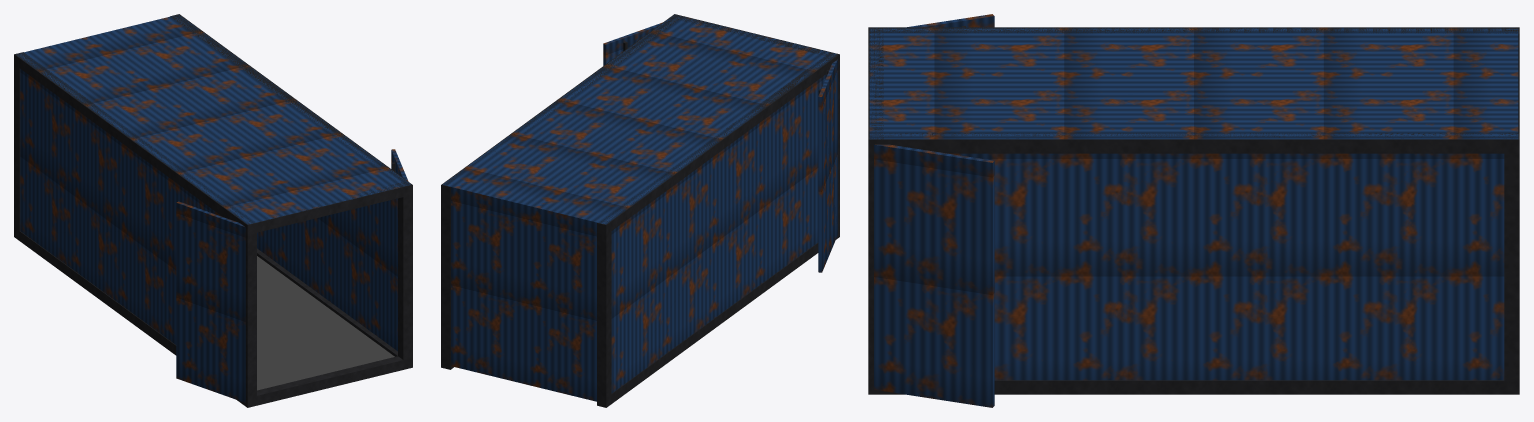
File: container-blue.glb
3 views of the same model, side by side, from view 1: azimuth 30°, elevation 25°; view 2: azimuth 150°, elevation 25°; view 3: azimuth 270°, elevation 25° (orthographic). The views are drawn at different scales.
Parts seen in each view (by area): view 1: container; view 2: container; view 3: container.
Part boxes in pixels (x1,y1,x2,y2): container: (14,14,412,407); container: (441,14,839,407); container: (868,14,1519,407).
Bounding box in the file's own units: 3.26 × 2.6 × 6.02.
3 materials, 2 textured.
